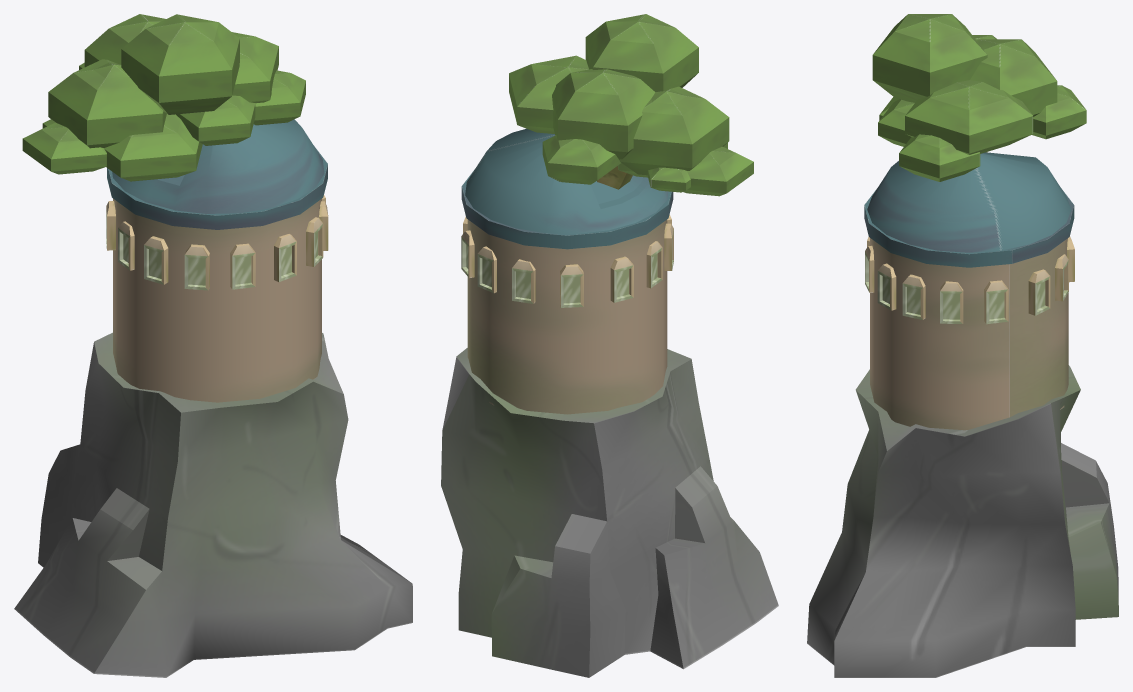
Rendered from RuineMetBoom.fbx.
The picture shows the model from 3 angles, left to right: view 1: azimuth 30°, elevation 25°; view 2: azimuth 150°, elevation 25°; view 3: azimuth 270°, elevation 25°; orthographic projection. The views are drawn at different scales.
Parts seen in each view (by area): view 1: pCube9; view 2: pCube9; view 3: pCube9.
Part boxes in pixels (box(x1,y1,x2,y2)): pCube9: box(14, 14, 412, 677); pCube9: box(441, 14, 778, 677); pCube9: box(807, 14, 1118, 677).
Size of the model in its own units: 34.4 by 65.44 by 32.09.
1 material, 1 textured.
